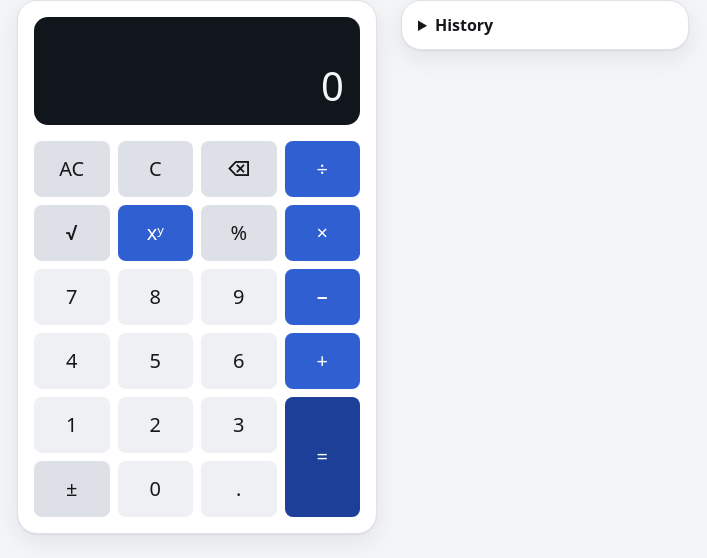
Scenario: UC-UI-01 extensions › E6/E7: an overflow problem shows the fixed copy in the one alert region
Step 1. Click the button "1" → (72, 425), box [34, 397, 110, 453]
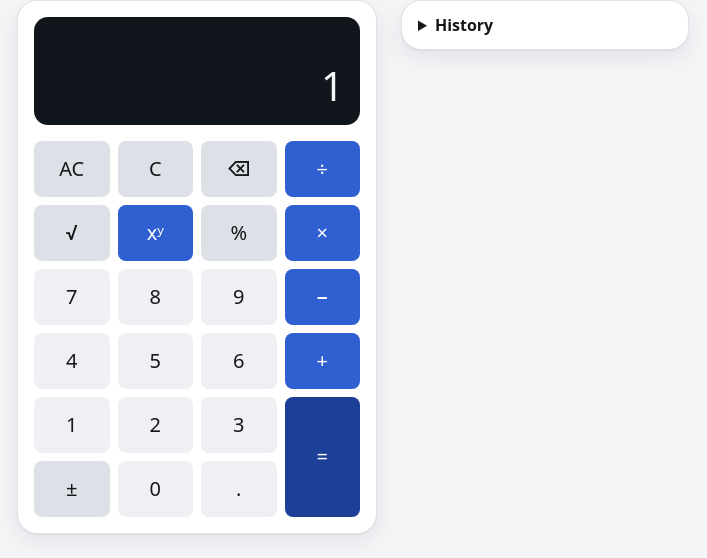
Step 2. Click the button named "divide" → (322, 169), box [284, 141, 360, 197]
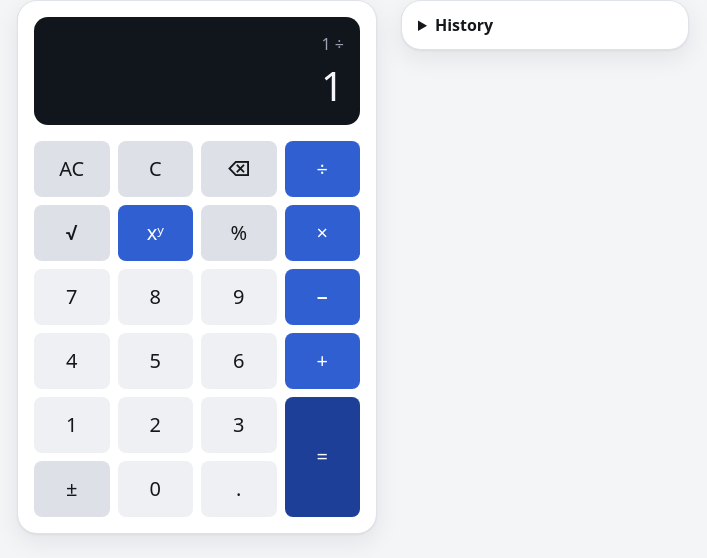
Step 3. Click the button "0" → (155, 489), box [118, 461, 193, 517]
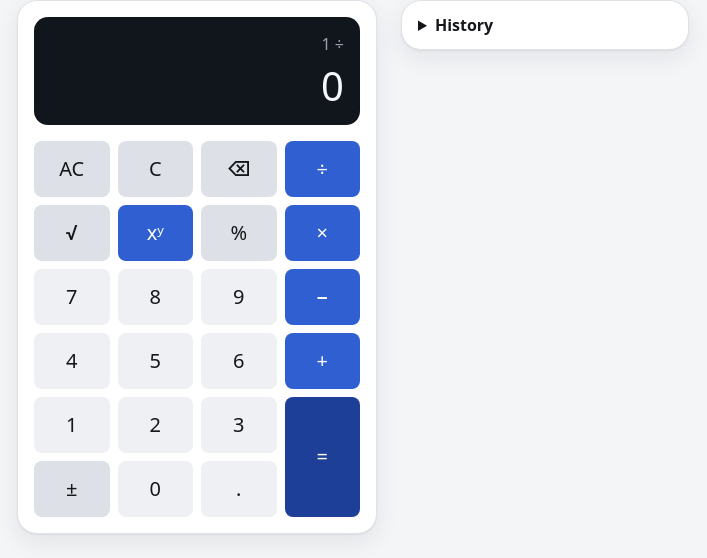
Step 4. Click the button named "equals" → (322, 457), box [284, 397, 360, 517]
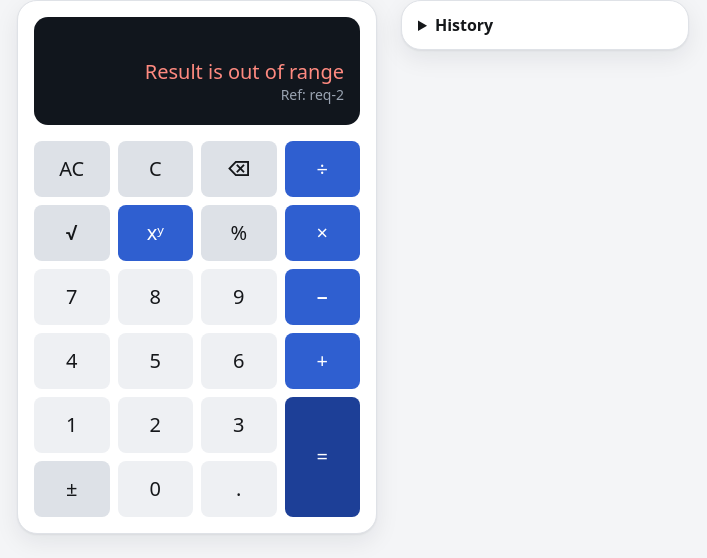
Expected: the message does not show "server title", [145, 58, 344, 104]
Result: the number of messages is 1 at [145, 58, 344, 104]
Result: the message shows "Result is out of range" at [145, 58, 344, 85]
